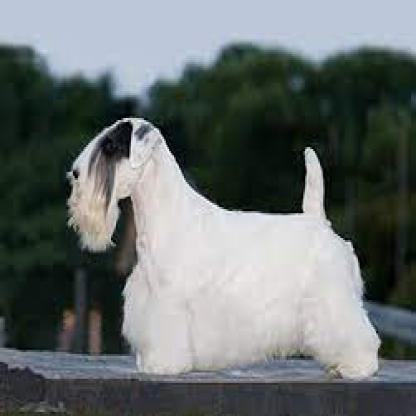Sealyham terrier: (58, 109, 385, 382)
